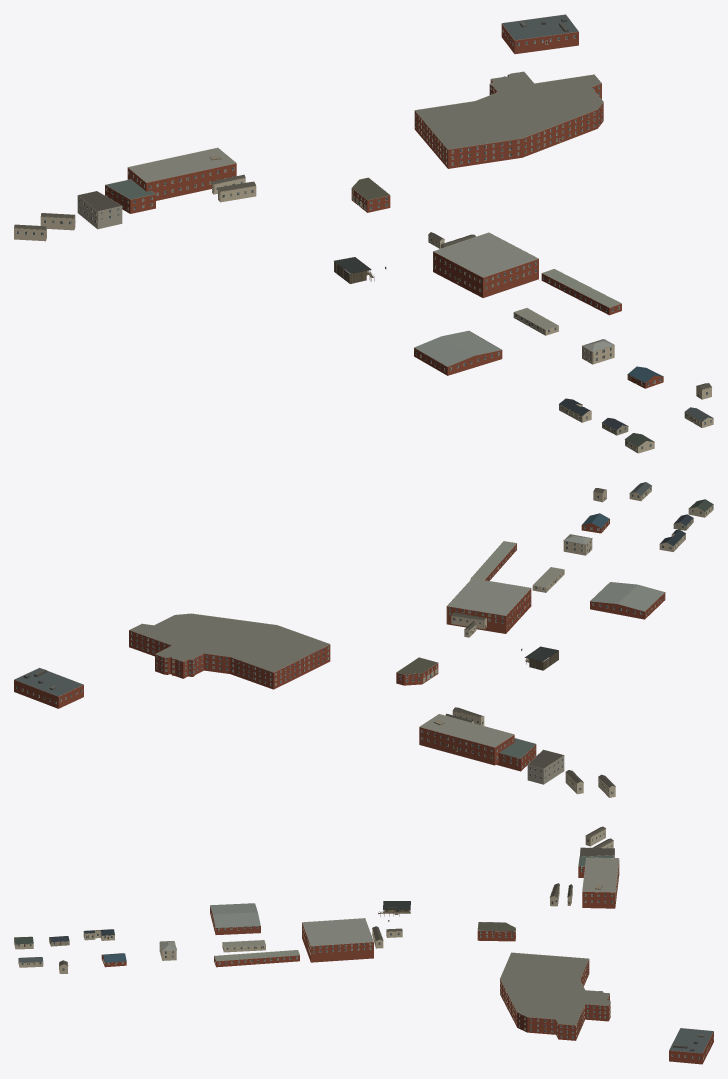
3 renders of one model, top to bottom at view 1: azimuth 30°, elevation 25°; view 2: azimuth 150°, elevation 25°; view 3: azimuth 270°, elevation 25°, orthographic. The views are drawn at different scales.
Visible parts, largest first — view 1: -1_4_419637250_0, -1_4_599061338_3, -1_4_-4202_43, -1_4_599060871_2; view 2: -1_4_419637250_0, -1_4_599061338_3, -1_4_599060871_2, -1_4_-4202_43; view 3: -1_4_419637250_0, -1_4_599061338_3, -1_4_599060871_2.
Part boxes in pixels (x1,y1,x2,y2): -1_4_419637250_0: (14, 14, 713, 450); -1_4_599061338_3: (14, 178, 713, 453); -1_4_-4202_43: (77, 195, 122, 229); -1_4_599060871_2: (334, 257, 386, 283); -1_4_419637250_0: (14, 482, 713, 794); -1_4_599061338_3: (445, 486, 713, 797); -1_4_599060871_2: (521, 646, 558, 670); -1_4_-4202_43: (527, 756, 564, 784); -1_4_419637250_0: (14, 826, 713, 1064); -1_4_599061338_3: (14, 829, 613, 973); -1_4_599060871_2: (378, 901, 410, 921).
Bounding box in the file's own units: 407 × 29.47 × 501.
